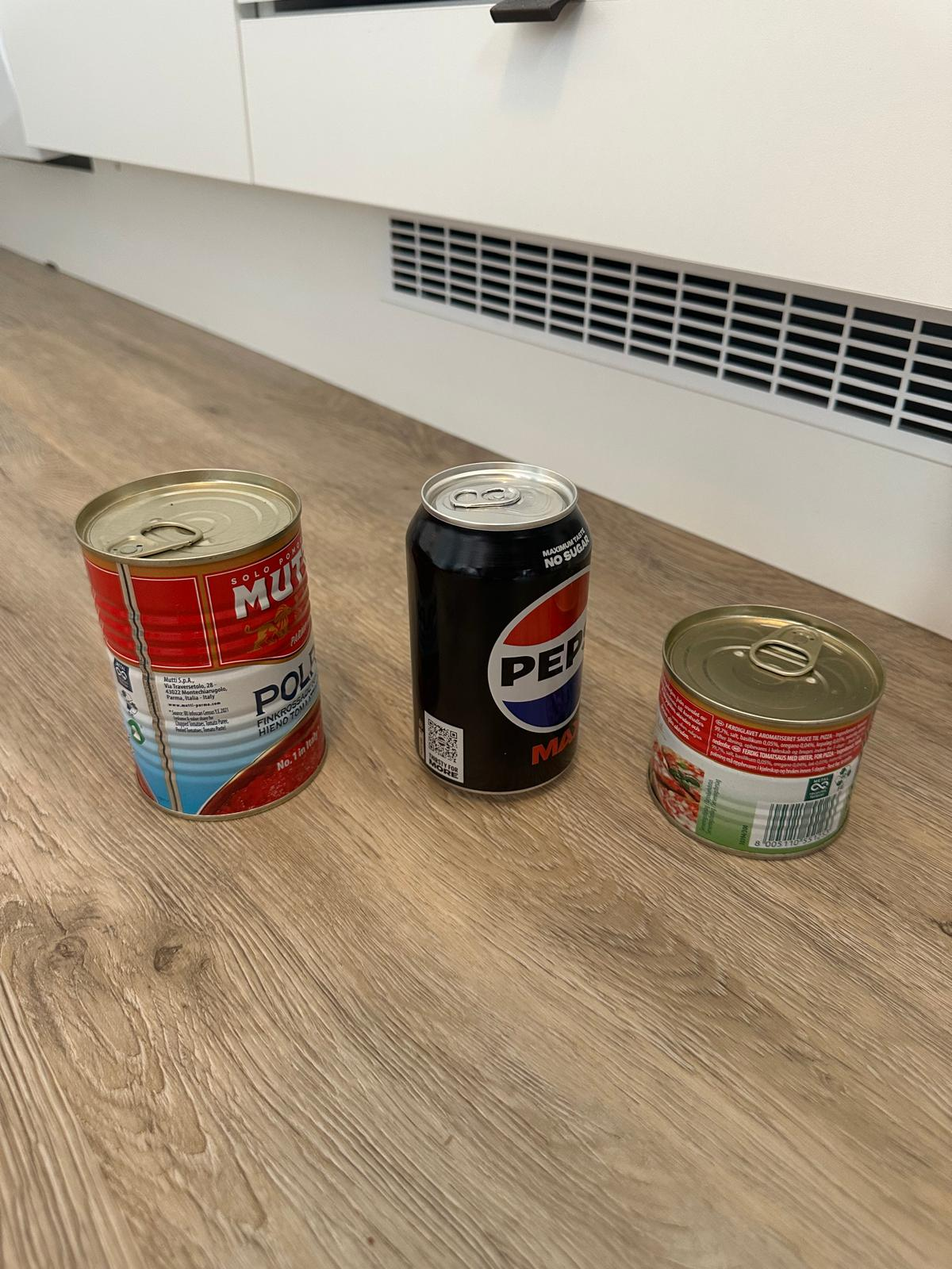Konservburk: (73, 468, 329, 822), (645, 603, 888, 860)
Pantburk: (406, 461, 593, 796)
